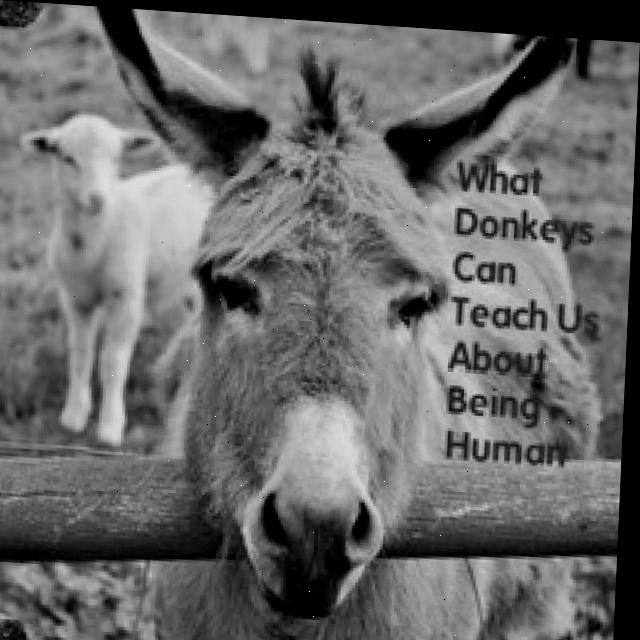Donkey: (60, 6, 620, 640), (3, 105, 218, 455), (0, 0, 60, 640), (487, 33, 637, 82)
